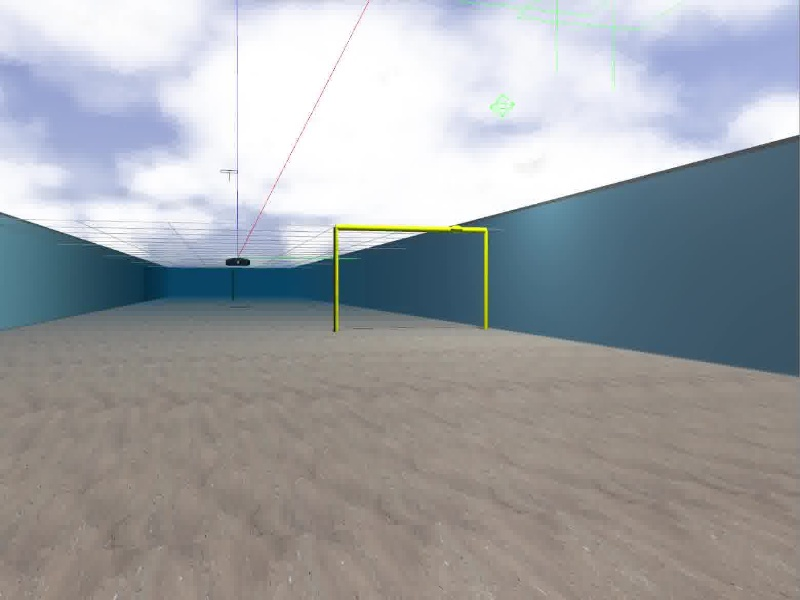gate: (332, 222, 489, 335)
